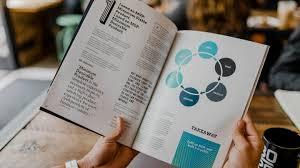paper: (41, 1, 270, 168)
